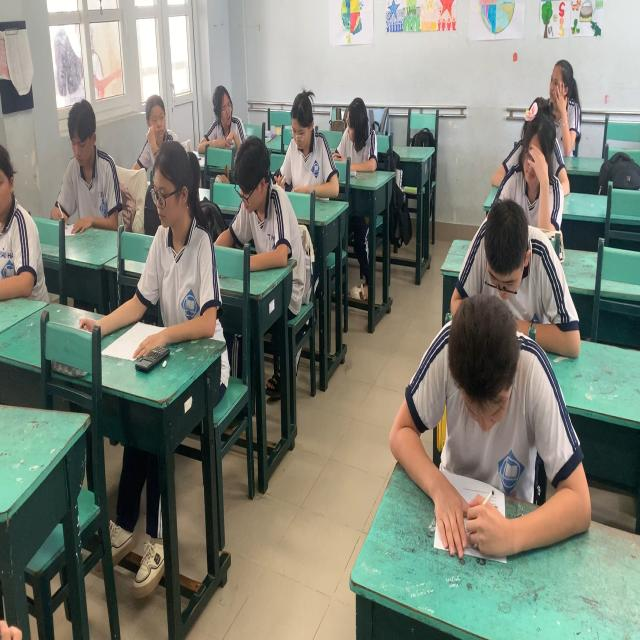cheating: (340, 94, 380, 188), (202, 67, 246, 149)
not_cheating: (398, 326, 557, 547), (136, 149, 217, 340), (54, 98, 126, 239), (219, 143, 295, 264), (466, 205, 538, 326), (274, 88, 342, 204), (511, 122, 561, 222), (540, 56, 585, 163), (132, 81, 172, 157)
